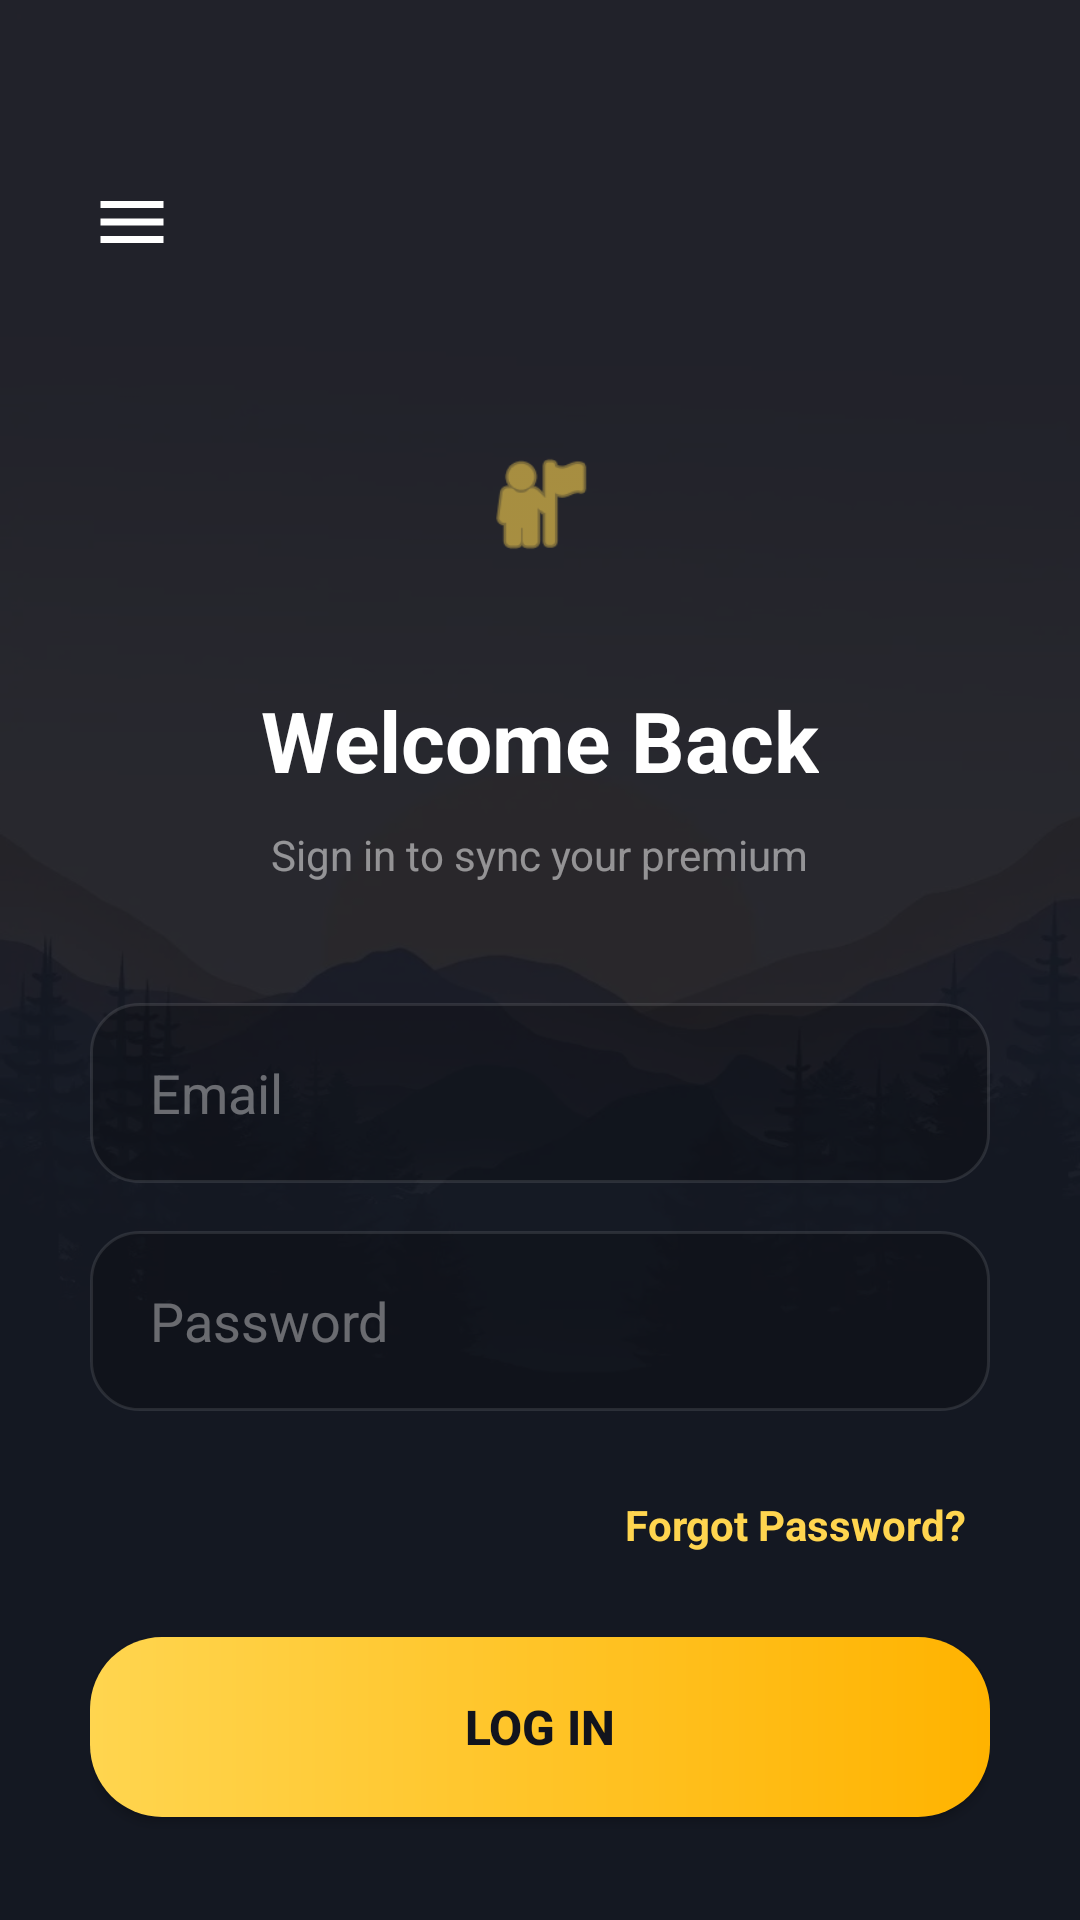

Where to tap for icons on this 1080*1920 app screen, as (x,y):
menu: (132,222)
myplaces: (541,504)
